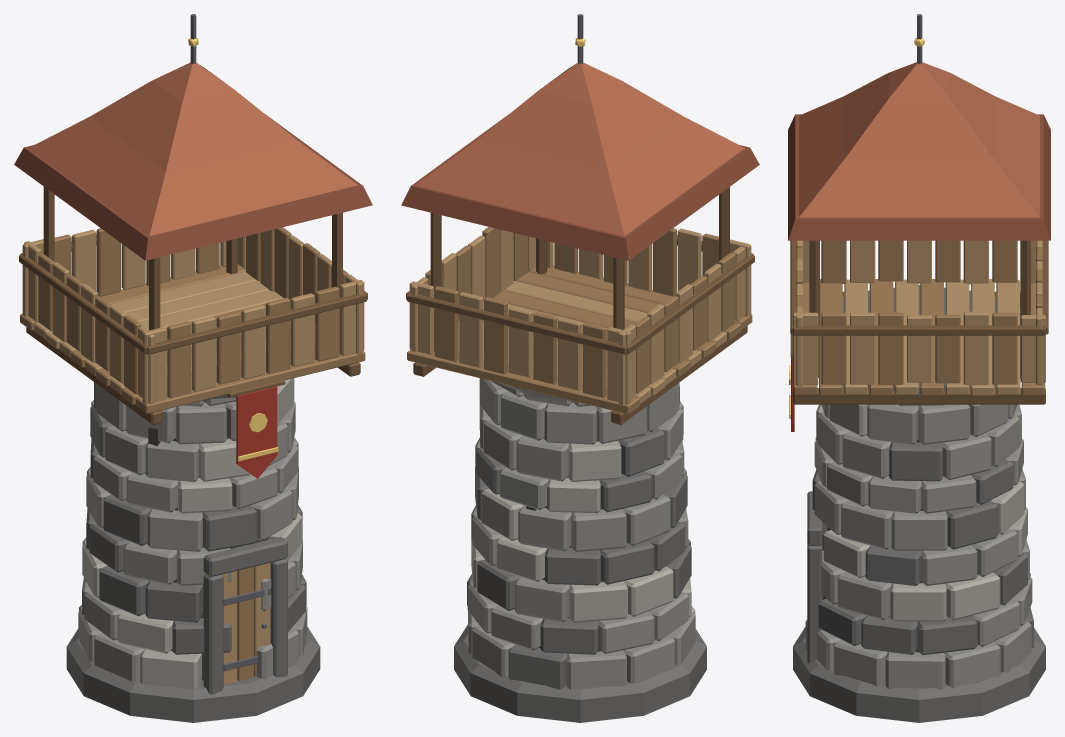
The model's file is archer_tower_2.glb.
3 views of the same model, side by side, from view 1: azimuth 30°, elevation 25°; view 2: azimuth 150°, elevation 25°; view 3: azimuth 270°, elevation 25° (orthographic).
Visible parts, largest first — view 1: ArcherTower; view 2: ArcherTower; view 3: ArcherTower.
Boxes of the visible parts, left/top/right/bottom form: ArcherTower: left=14, top=14, right=372, bottom=722; ArcherTower: left=401, top=14, right=759, bottom=722; ArcherTower: left=788, top=14, right=1050, bottom=722.
Bounding box in the file's own units: 3.11 × 8.55 × 3.11.
